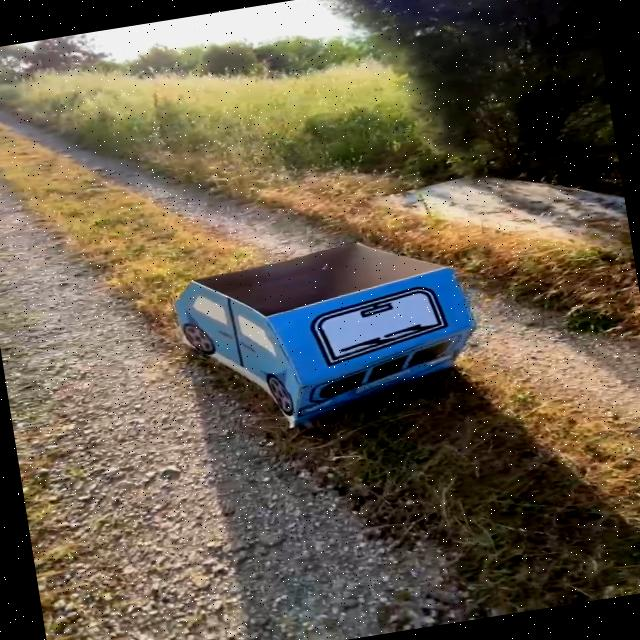blue_car: (141, 205, 525, 486)
